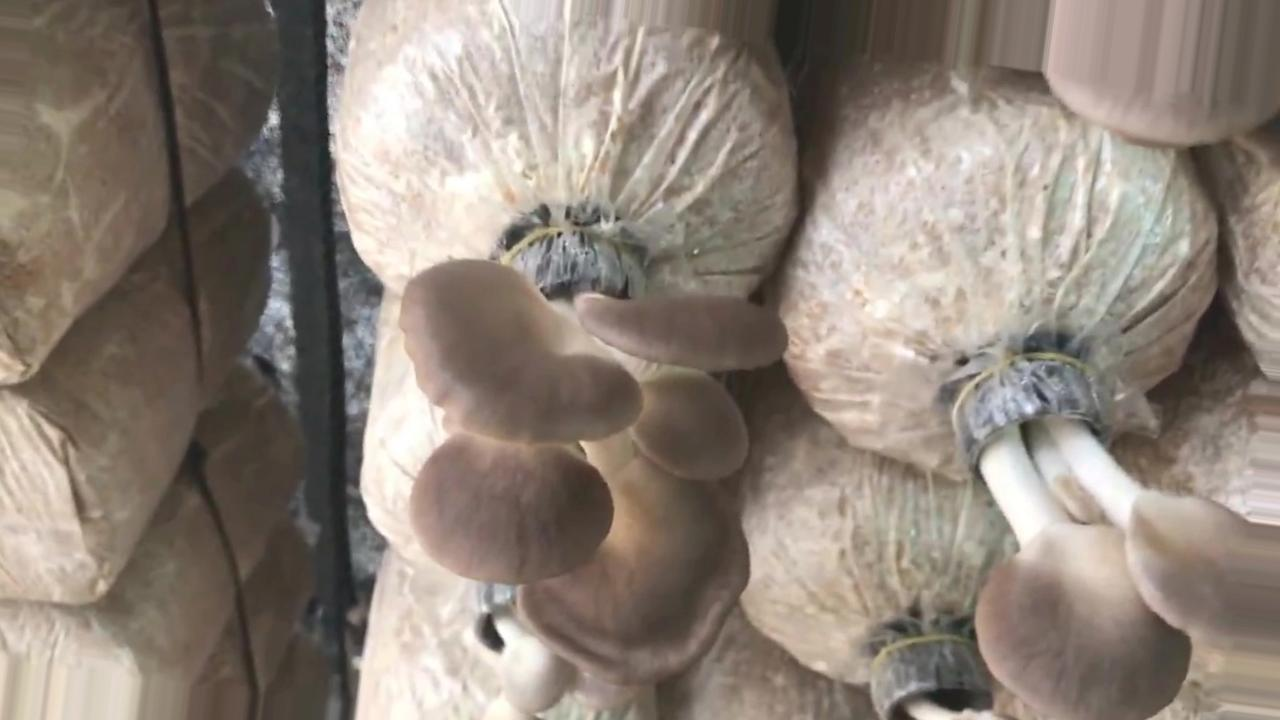nam: (400, 237, 787, 682), (951, 359, 1278, 720), (466, 583, 650, 714)
